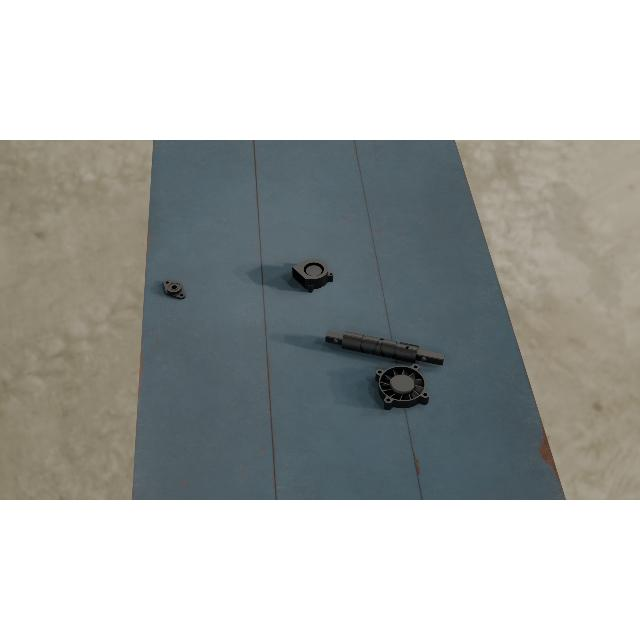Pieza1: (324, 324, 446, 372)
Pieza2: (157, 275, 191, 303)
Pieza3: (292, 254, 336, 294)
Pieza4: (374, 362, 431, 412)
